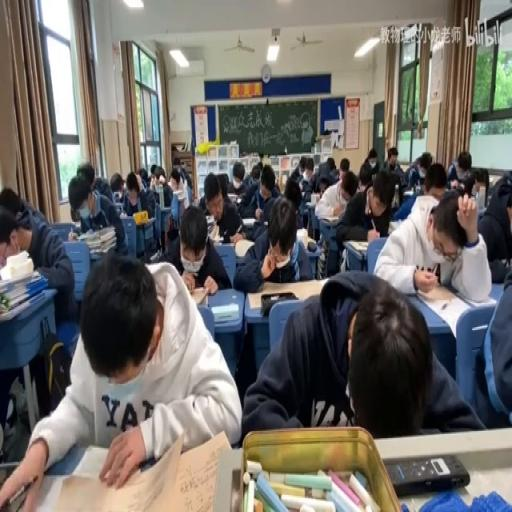calculator: (26, 426, 230, 510), (412, 282, 490, 337), (210, 300, 238, 322), (189, 283, 209, 306), (450, 185, 476, 202), (234, 236, 256, 256), (346, 239, 368, 253), (169, 185, 186, 202), (475, 186, 485, 212), (486, 175, 501, 188), (318, 215, 341, 223), (387, 219, 400, 233), (206, 218, 216, 236), (240, 214, 258, 224), (208, 232, 222, 244), (150, 248, 162, 260), (113, 200, 123, 214), (226, 192, 238, 202), (402, 186, 414, 196), (304, 198, 317, 206), (72, 220, 82, 230), (119, 209, 127, 218)
paper: (242, 272, 482, 438), (0, 189, 76, 435), (374, 184, 490, 302), (234, 192, 314, 292), (473, 256, 512, 426), (164, 202, 230, 294), (68, 169, 126, 259), (333, 165, 384, 262), (477, 173, 512, 271), (121, 170, 155, 244), (0, 209, 29, 270), (298, 158, 323, 227), (382, 146, 406, 202), (406, 149, 432, 192), (446, 149, 473, 188), (151, 168, 174, 209), (223, 162, 246, 196), (0, 185, 23, 217), (392, 192, 418, 220), (362, 147, 380, 179), (339, 171, 358, 199), (284, 183, 302, 212), (110, 172, 126, 202), (289, 155, 305, 182), (75, 160, 93, 184), (178, 162, 192, 188), (137, 165, 148, 188), (338, 158, 350, 178), (148, 163, 157, 185), (250, 164, 261, 179), (299, 175, 310, 189), (170, 174, 180, 189), (326, 156, 335, 170), (171, 156, 181, 168), (258, 151, 264, 168)
person: (384, 452, 470, 494), (0, 466, 31, 510), (259, 292, 297, 316), (306, 240, 318, 252)
